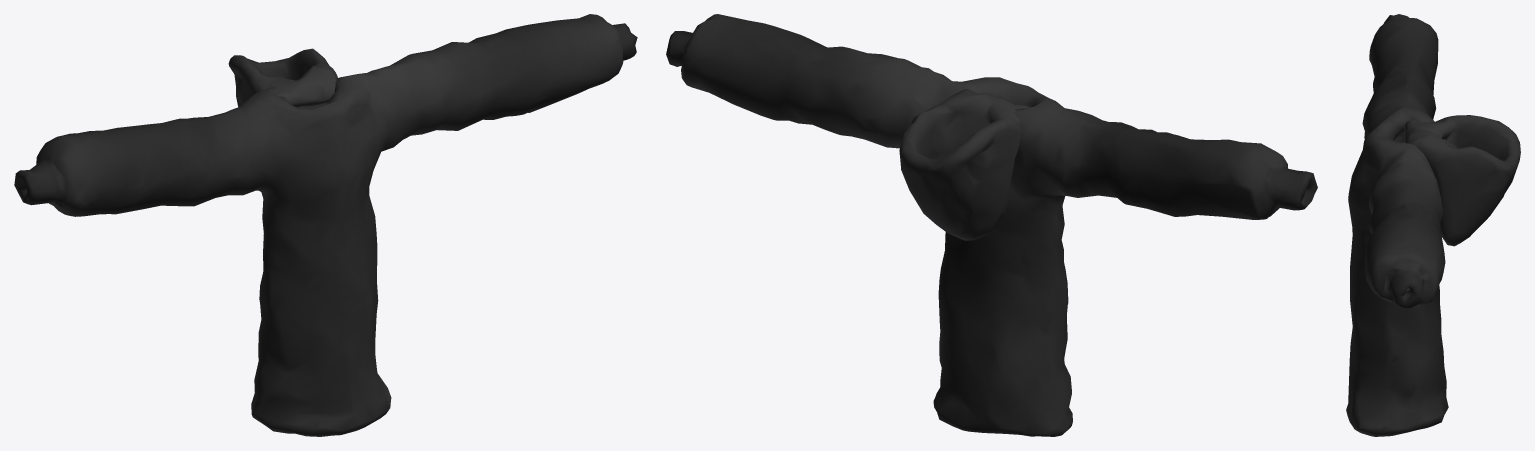
The model's file is hoodie down gray.glb.
The picture shows the model from 3 angles, left to right: view 1: azimuth 30°, elevation 25°; view 2: azimuth 150°, elevation 25°; view 3: azimuth 270°, elevation 25°; orthographic projection. The views are drawn at different scales.
Parts seen in each view (by area): view 1: shirt_hoodie_down_dark_gray.001; view 2: shirt_hoodie_down_dark_gray.001; view 3: shirt_hoodie_down_dark_gray.001.
Part boxes in pixels (x1,y1,x2,y2): shirt_hoodie_down_dark_gray.001: (14, 14, 637, 436); shirt_hoodie_down_dark_gray.001: (666, 14, 1317, 436); shirt_hoodie_down_dark_gray.001: (1346, 14, 1520, 436).
Size of the model in its own units: 0.7057 by 0.3679 by 0.1962.
Materials: 2 (2 with a texture image).
